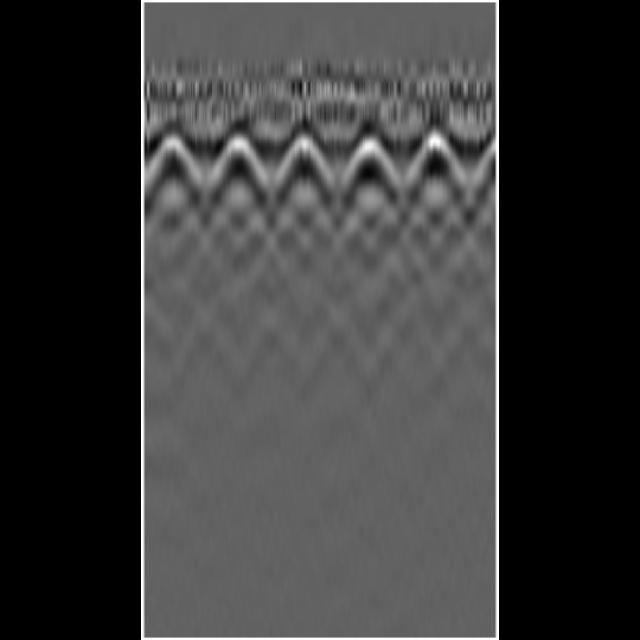hyperbola: (206, 126, 270, 206), (270, 123, 334, 203), (404, 124, 468, 202), (338, 130, 404, 204), (144, 127, 200, 201)
